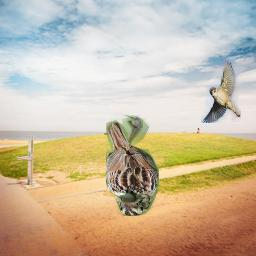Sparrow: (106, 115, 159, 216), (201, 60, 241, 123)
